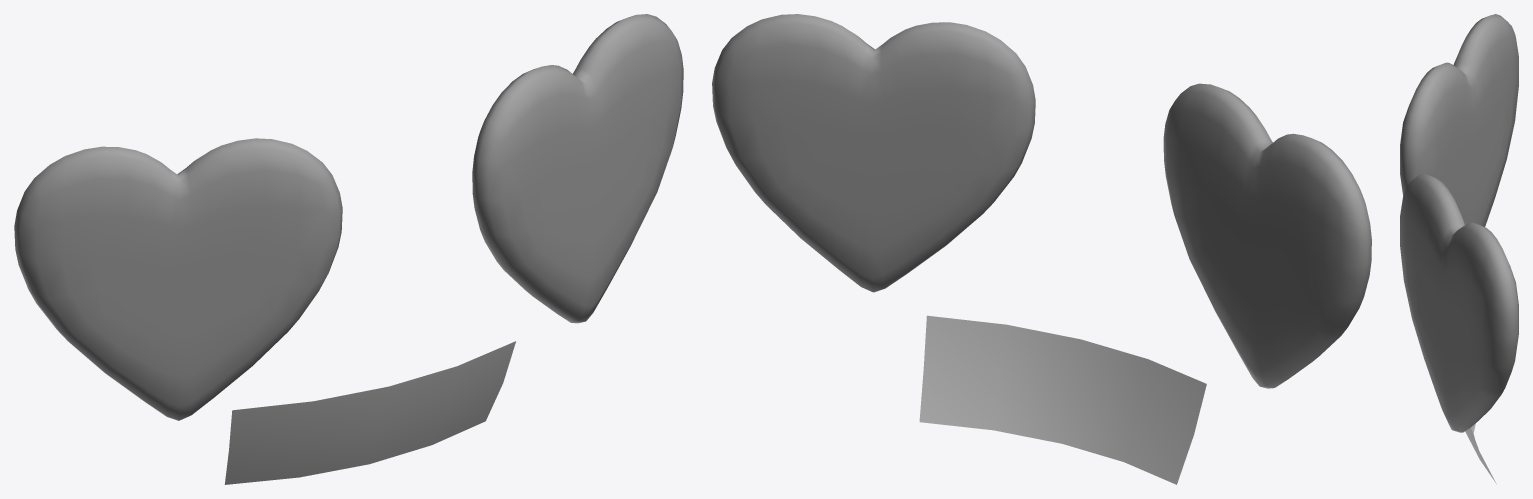
Rendered from Heart Face.fbx.
3 views of the same model, side by side, from view 1: azimuth 30°, elevation 25°; view 2: azimuth 150°, elevation 25°; view 3: azimuth 270°, elevation 25° (orthographic). The views are drawn at different scales.
Parts seen in each view (by area): view 1: Heart Face; view 2: Heart Face; view 3: Heart Face.
Boxes of the visible parts, box(x1,y1,x2,y2) form: Heart Face: box(14, 14, 683, 484); Heart Face: box(712, 14, 1371, 484); Heart Face: box(1400, 14, 1518, 483).
Bounding box in the file's own units: 49.82 × 27.01 × 9.42.
